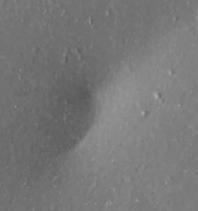dent: (1, 0, 198, 211)
